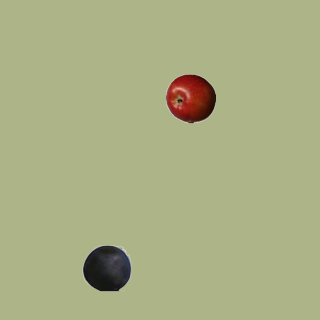Apple Braeburn: (165, 73, 215, 123)
Grape Blue: (81, 242, 131, 292)
